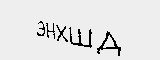Д: (96, 31, 124, 56)
Н: (47, 23, 56, 41)
Х: (56, 22, 69, 44)
Ш: (70, 24, 94, 48)
Э: (36, 19, 45, 39)
